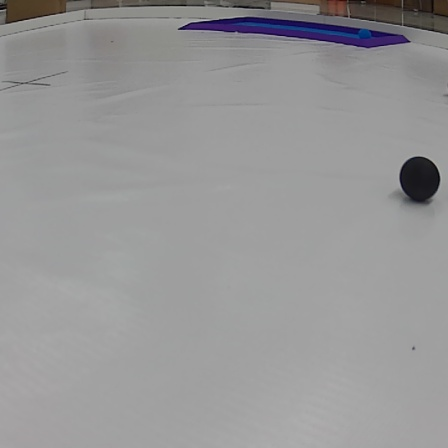black: (397, 151, 441, 205)
blue: (357, 27, 373, 39)
blue_aim: (179, 14, 413, 49)
